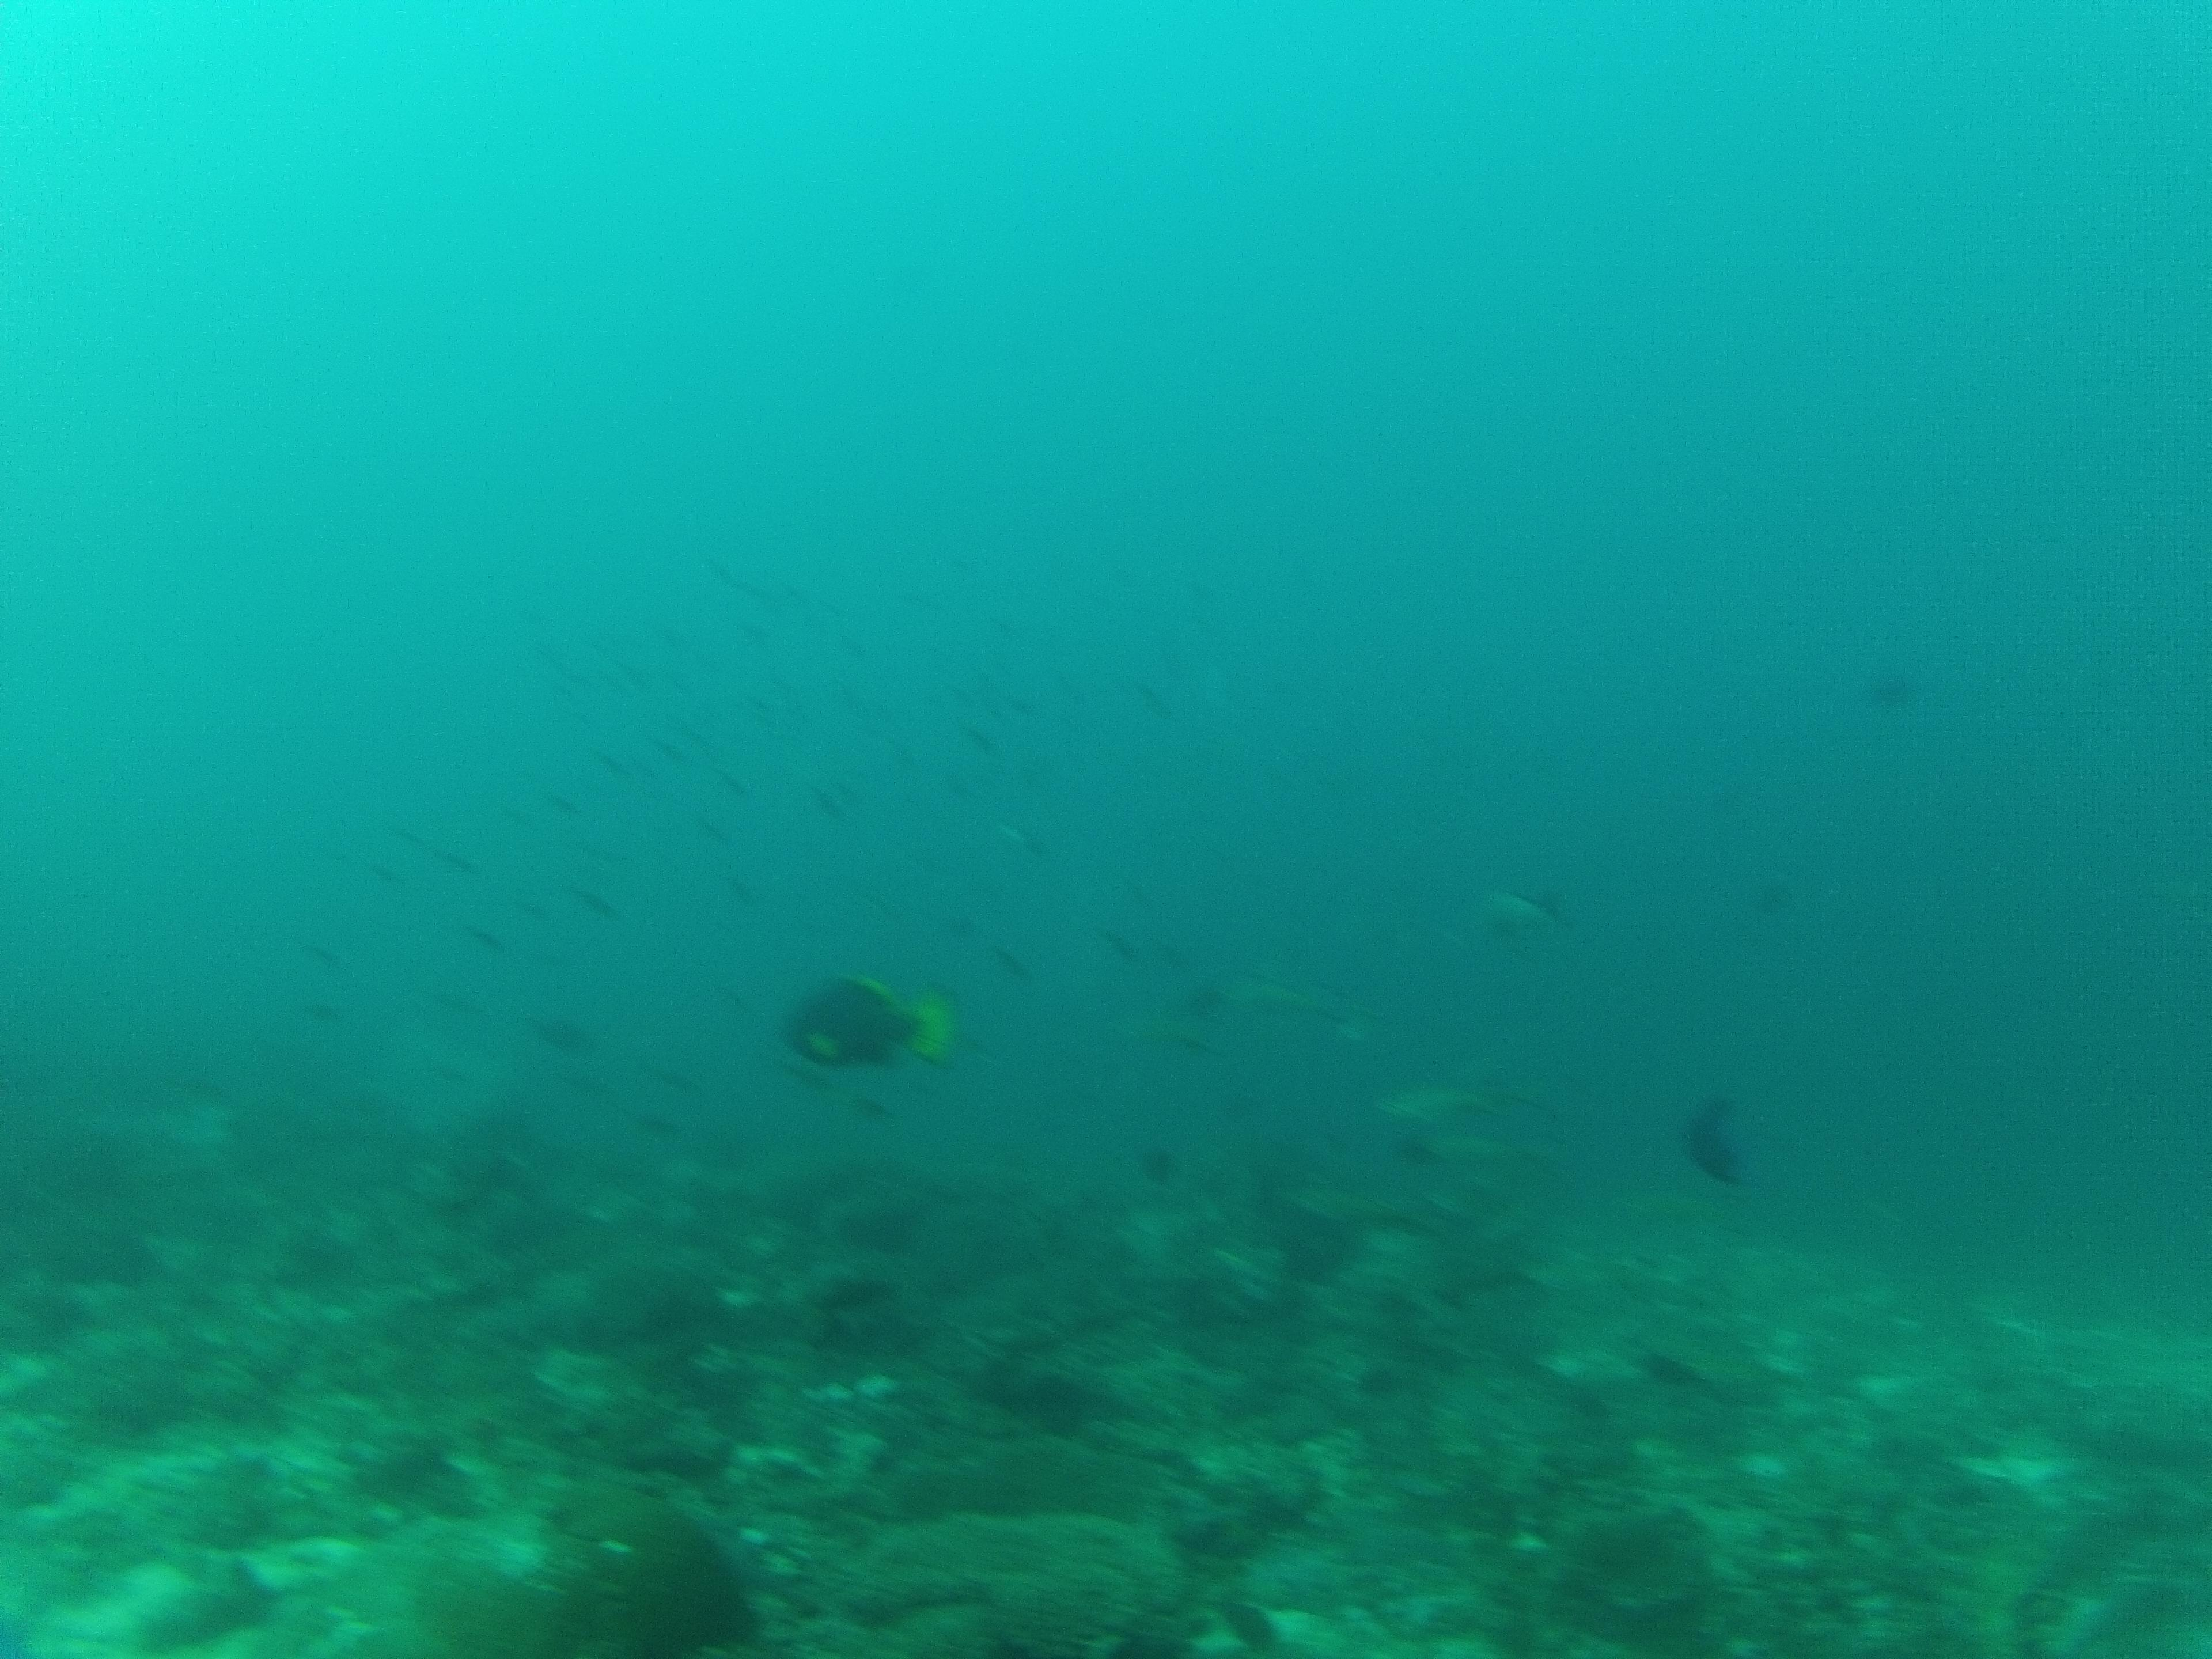Fish: (738, 941, 1014, 1098)
